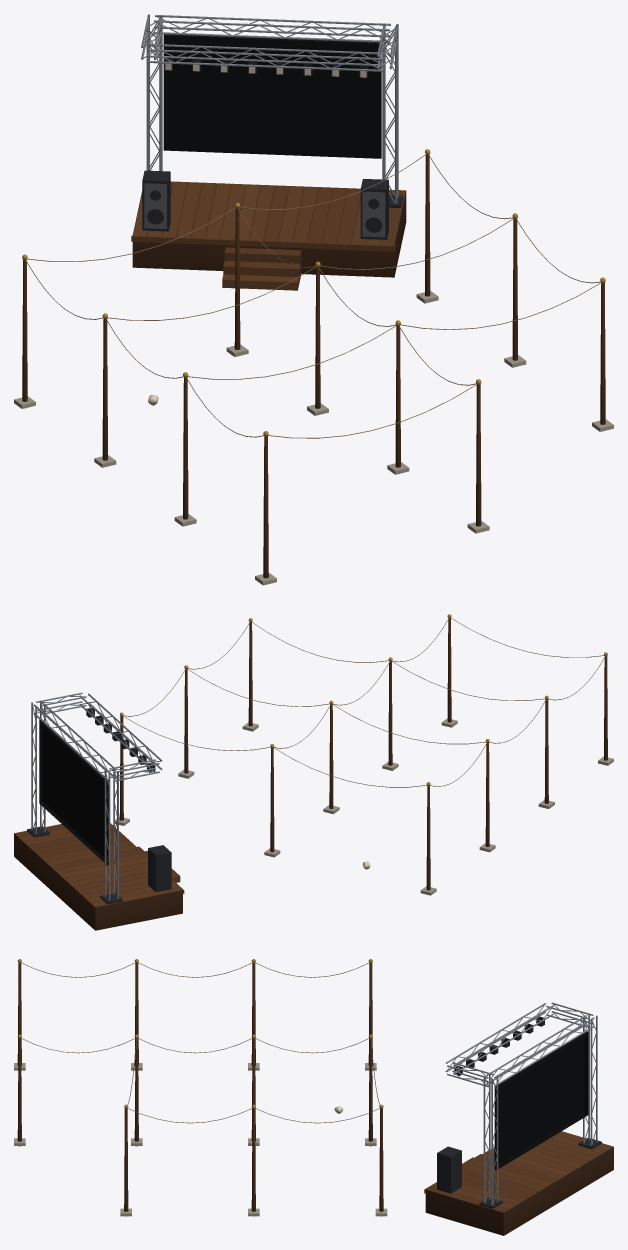
Rendered from venue.glb.
3 renders of one model, top to bottom at view 1: azimuth 30°, elevation 25°; view 2: azimuth 150°, elevation 25°; view 3: azimuth 270°, elevation 25°, orthographic. The views are drawn at different scales.
Visible parts, largest first — view 1: stage, screen, truss, poles; view 2: stage, poles, truss, screen; view 3: stage, truss, screen, poles.
Boxes of the visible parts, x1,y1,x2,y2 form: stage: (131,170,406,290); screen: (167,39,377,154); truss: (141,14,402,207); poles: (14,149,613,585); stage: (14,823,184,930); poles: (115,614,613,895); truss: (27,692,162,904); screen: (42,725,104,857); stage: (424,1131,613,1235); truss: (445,1002,601,1208); screen: (498,1037,584,1164); poles: (14,959,387,1216).
Size of the model in its own units: 18.95 by 8.26 by 28.2.
